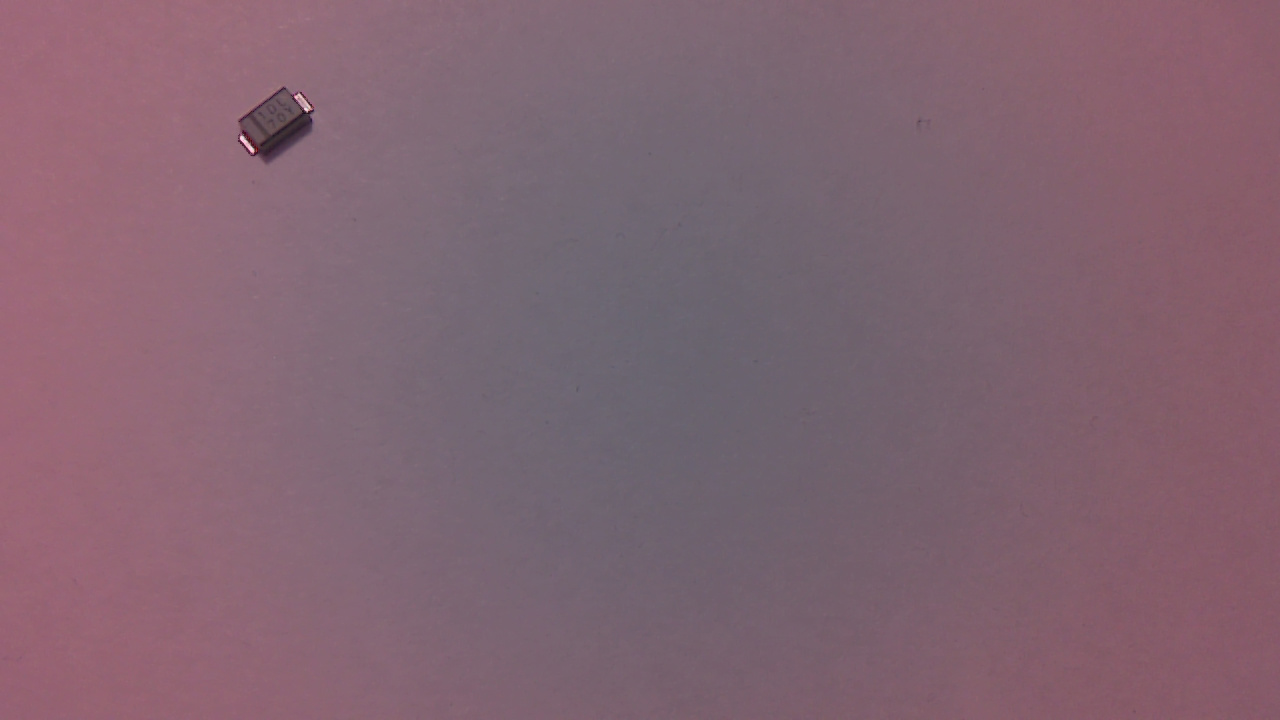Diode: (232, 93, 328, 163)
